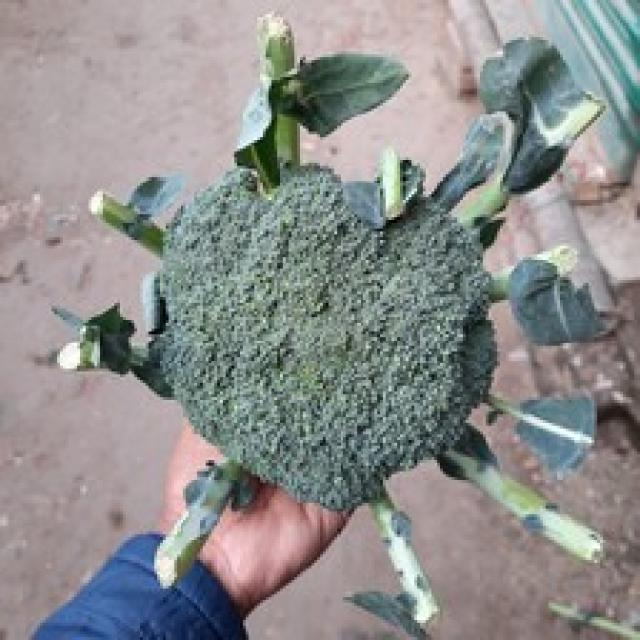Broccoli: (162, 166, 495, 509), (162, 168, 495, 509)
